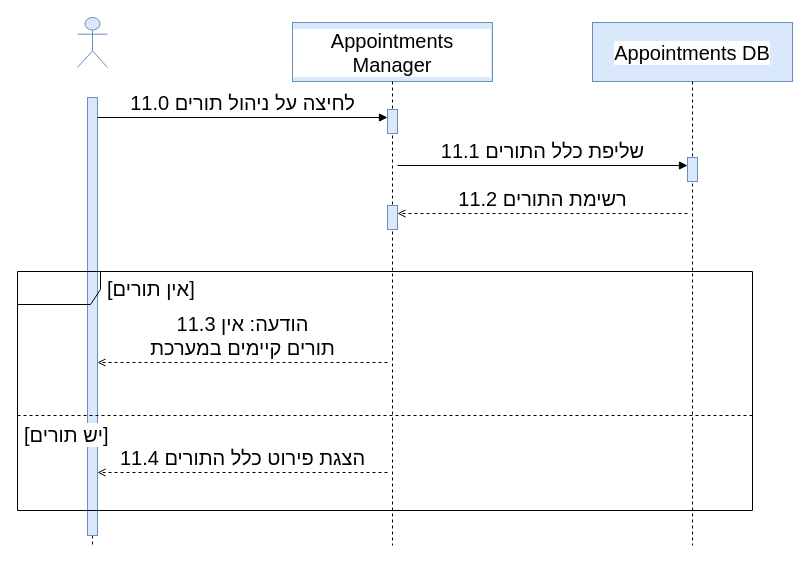
This 810x564 diagram has some shape labels left out. The box of each missing label's shape, as (x1, y1, x2, y2) in pixels:
alt: (16, 270, 752, 510)
מנהל ראשי: (76, 16, 108, 68)
